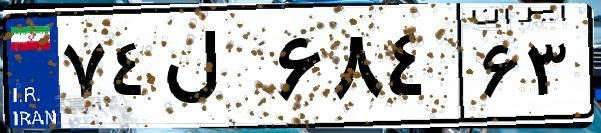3: (525, 38, 570, 115)
4: (385, 28, 445, 110), (110, 28, 158, 98)
6: (270, 28, 330, 110), (475, 38, 525, 113)
7: (57, 26, 110, 100)
8: (330, 28, 385, 110)
ل: (158, 20, 270, 120)
